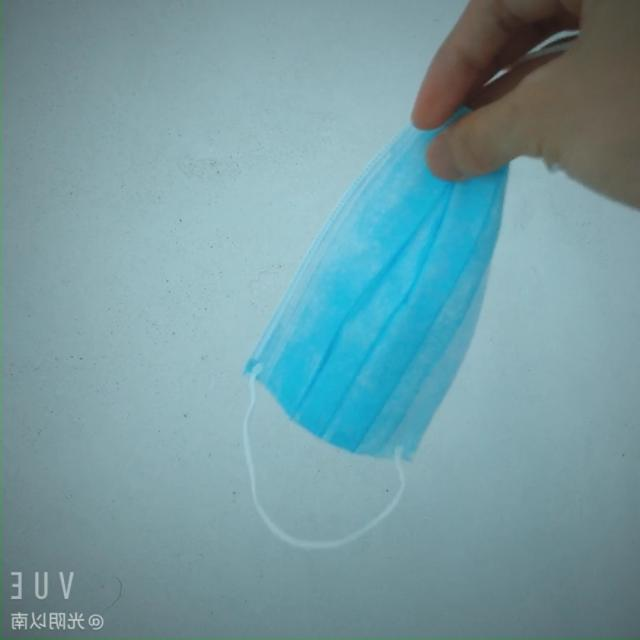face mask: (256, 65, 525, 502)
